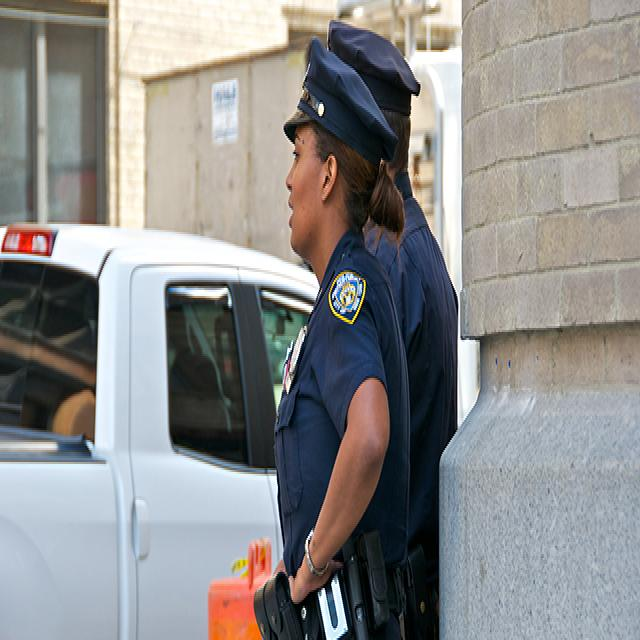police: (253, 31, 407, 640)
